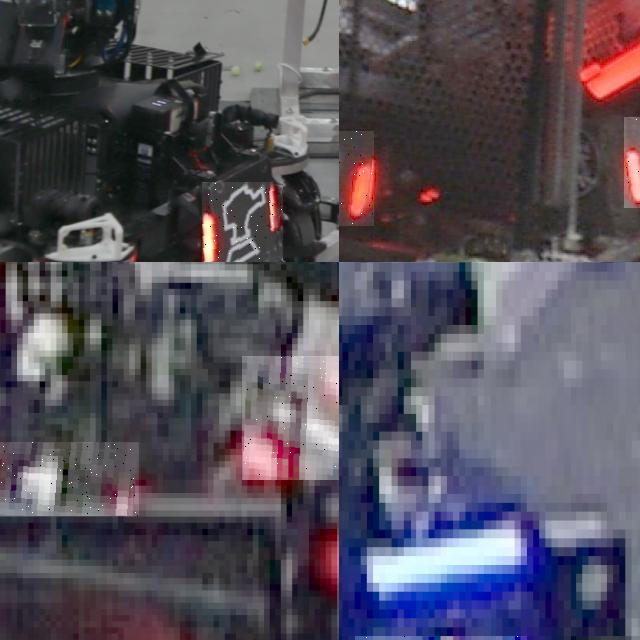R1: (241, 356, 339, 479), (0, 442, 140, 516)
R2: (339, 131, 374, 226), (624, 116, 640, 208)
Rs: (202, 182, 283, 262)
